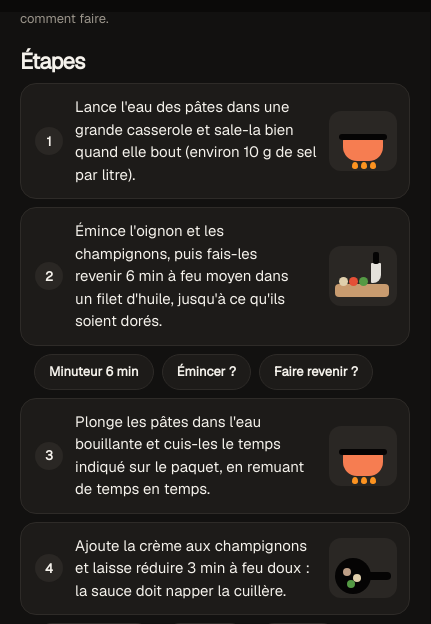
Test: recipe page › runs a step timer and rings at the end
(page scrolled)
What coordinates should you click on to do the following:
click the button with aria-label "Lancer un minuteur de 6 min"
I would click on:
 (94, 372)
Its box is [34, 354, 154, 390].
Wait 360000 ms
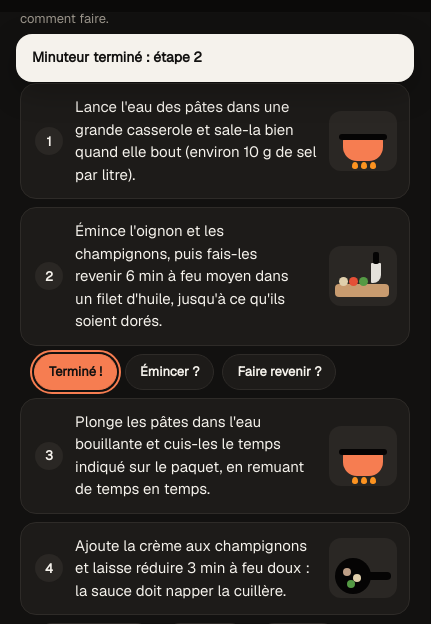
Result: the button "Terminé !" is shown
Result: the text "Minuteur terminé : étape 2" is shown at [16, 34, 414, 82]
What coordinates should you click on to do the following:
click the button "Terminé !"
I would click on:
 (76, 372)
Its box is [34, 354, 117, 390].
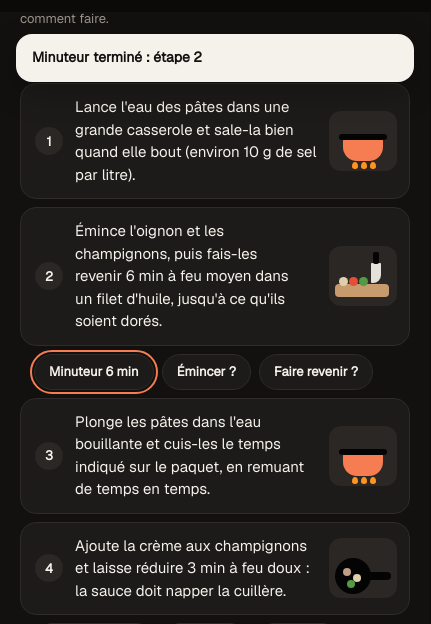
Result: the button with aria-label "Lancer un minuteur de 6 min" is shown at [34, 354, 154, 390]
